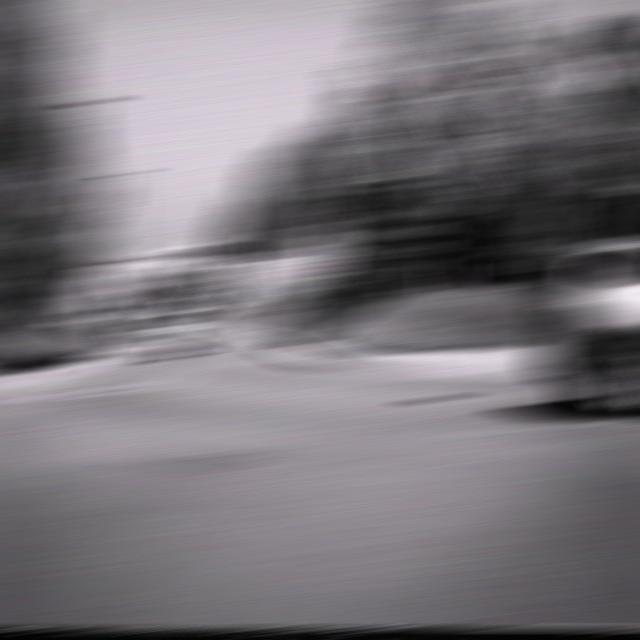speedLimit25: (309, 235, 343, 260)
